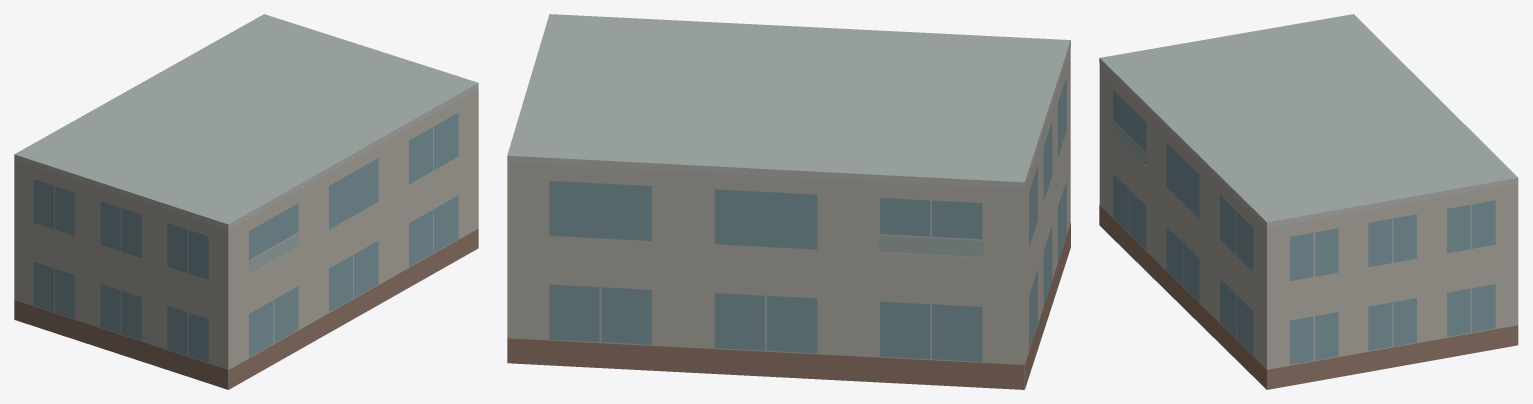
The model's file is survey-upis-32881926.glb.
3 renders of one model, left to right at view 1: azimuth 30°, elevation 25°; view 2: azimuth 150°, elevation 25°; view 3: azimuth 270°, elevation 25°, orthographic. The views are drawn at different scales.
Visible parts, largest first — view 1: survey-upis-32881926.tmp; view 2: survey-upis-32881926.tmp; view 3: survey-upis-32881926.tmp.
Boxes of the visible parts, x1,y1,x2,y2 form: survey-upis-32881926.tmp: (14,14,478,389); survey-upis-32881926.tmp: (507,14,1070,389); survey-upis-32881926.tmp: (1099,14,1518,389).
Bounding box in the file's own units: 19.75 × 7.4 × 16.78.
